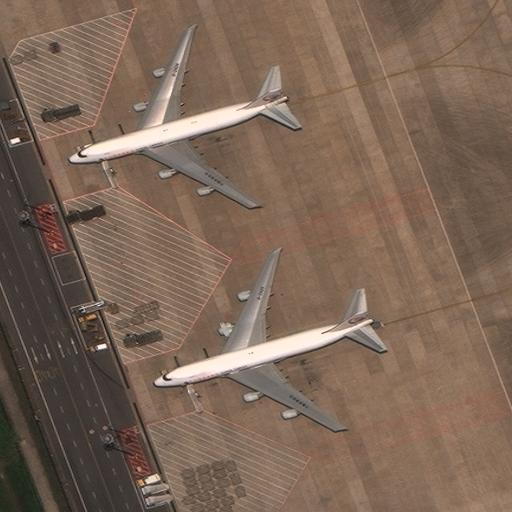Large Civil Transport: (67, 25, 286, 208), (155, 252, 373, 432)
